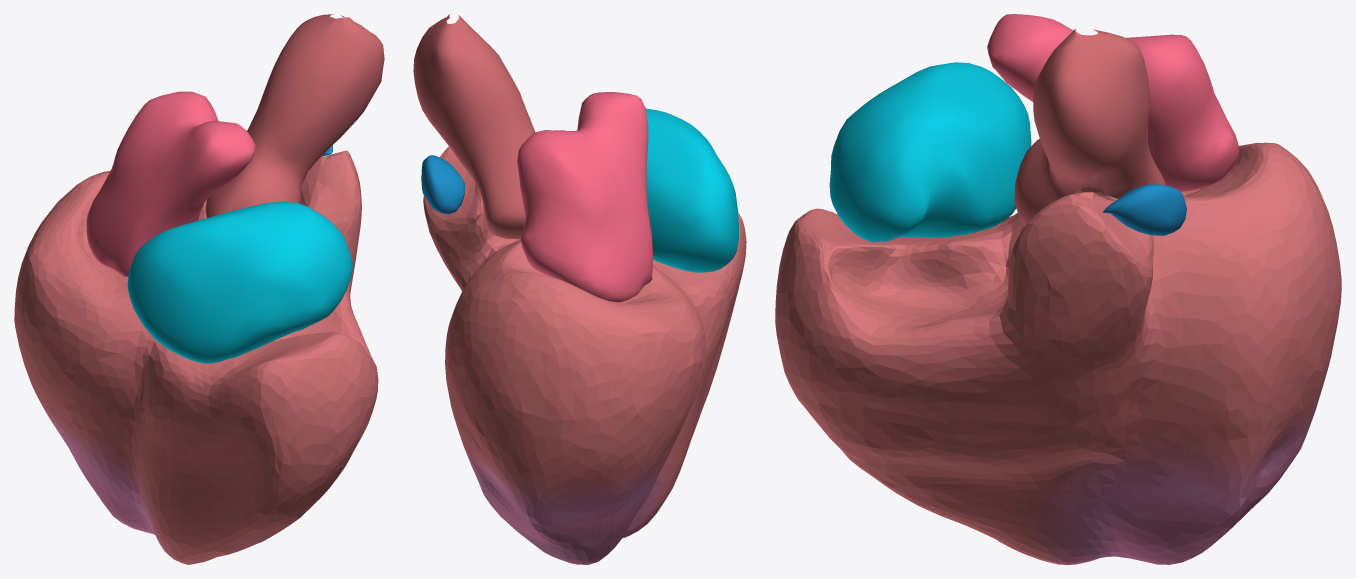
Rendered from frame_59.glb.
The picture shows the model from 3 angles, left to right: view 1: azimuth 30°, elevation 25°; view 2: azimuth 150°, elevation 25°; view 3: azimuth 270°, elevation 25°; orthographic projection. The views are drawn at different scales.
Visible parts, largest first — view 1: Renderer Node; view 2: Renderer Node; view 3: Renderer Node.
Boxes of the visible parts, <box> form: Renderer Node: <box>14,14,384,564</box>; Renderer Node: <box>413,14,746,564</box>; Renderer Node: <box>775,14,1341,564</box>.
Size of the model in its own units: 103 by 158 by 128.
